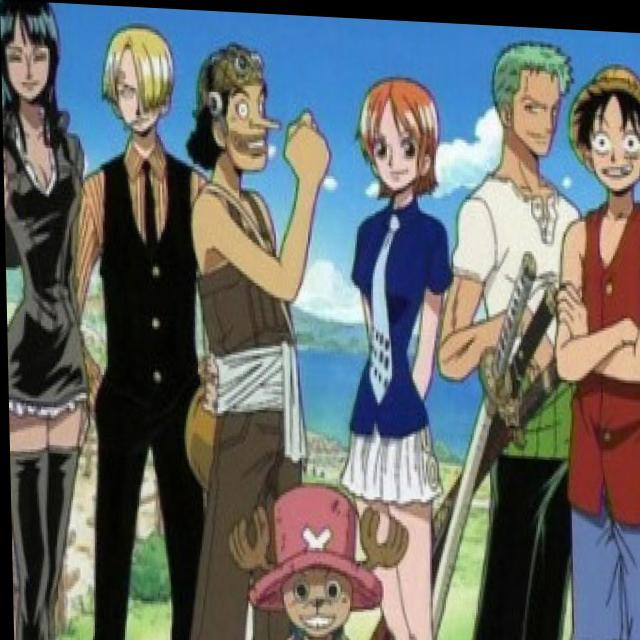Chyopa: (245, 463, 402, 640)
Luffy: (565, 52, 640, 190)
Nami: (353, 56, 452, 207)
NicoRobin: (0, 0, 70, 116)
Sangdi: (98, 18, 178, 151)
Usopp: (192, 35, 279, 185)
Zoro: (478, 31, 577, 157)
